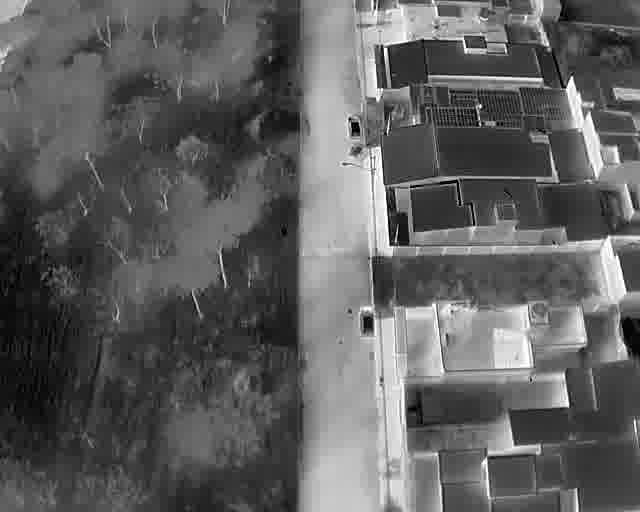car: (358, 305, 376, 338), (346, 113, 363, 141)
